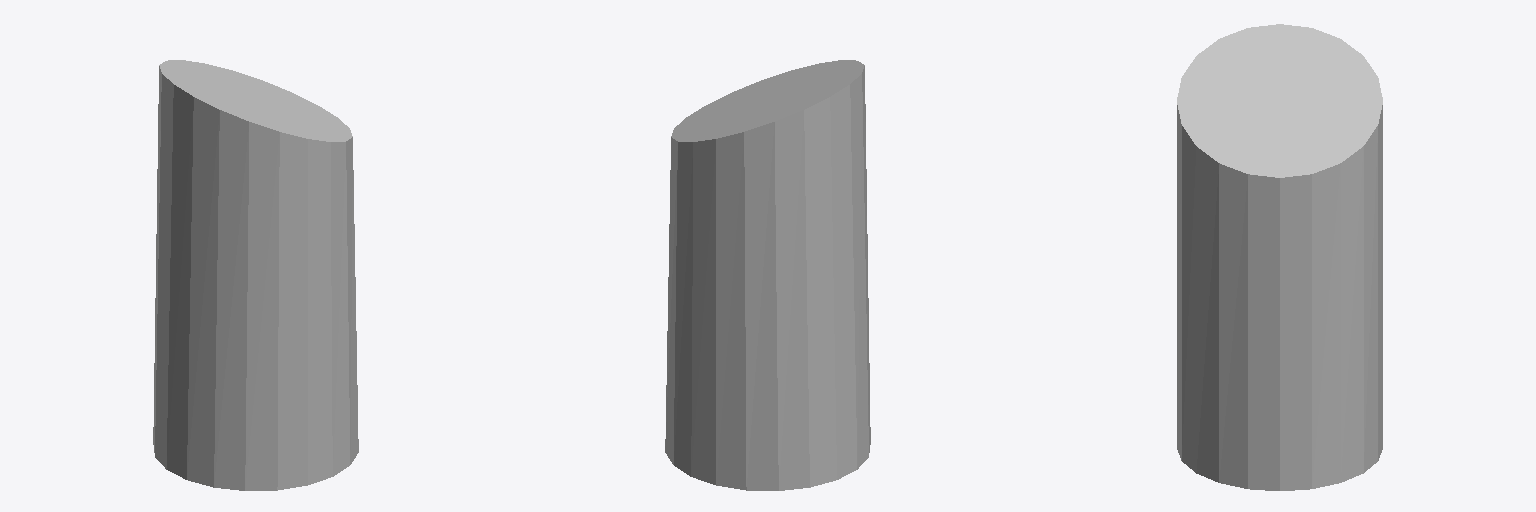
Rendered from buttonstand.obj.
The picture shows the model from 3 angles: view 1: azimuth 30°, elevation 25°; view 2: azimuth 150°, elevation 25°; view 3: azimuth 270°, elevation 25°; orthographic projection.
Visible parts, largest first — view 1: pCylinder1; view 2: pCylinder1; view 3: pCylinder1.
Part boxes in pixels (x1,y1,x2,y2): pCylinder1: (153, 60, 358, 490); pCylinder1: (665, 60, 870, 490); pCylinder1: (1177, 24, 1382, 490).
Size of the model in its own units: 2 by 4.1 by 2.